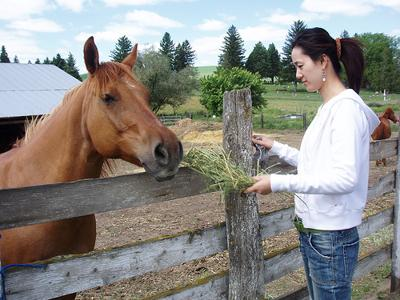person: (245, 26, 380, 300)
